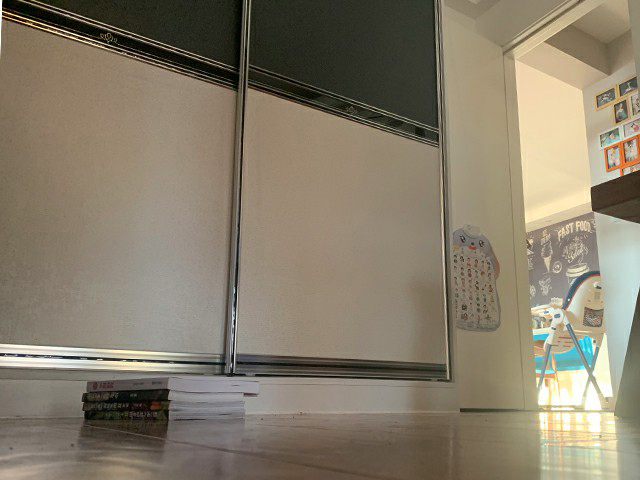book: (80, 374, 260, 421)
cabinet: (1, 1, 460, 412)
